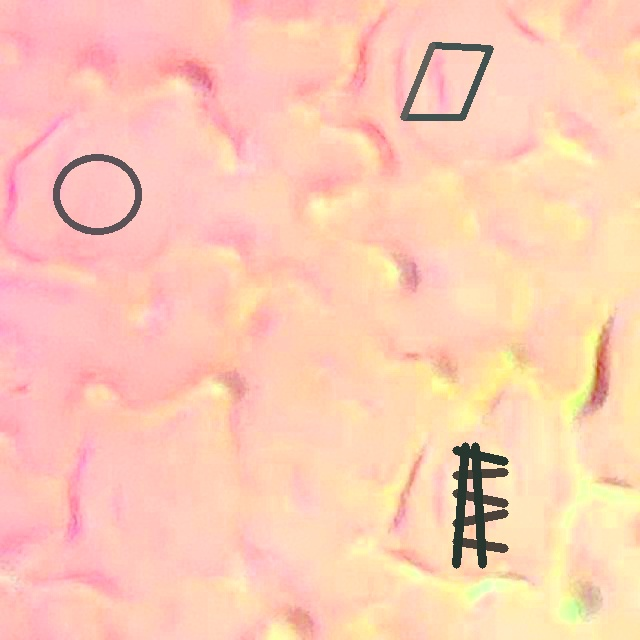close: (400, 42, 493, 120), (53, 153, 140, 234), (452, 442, 507, 568)
